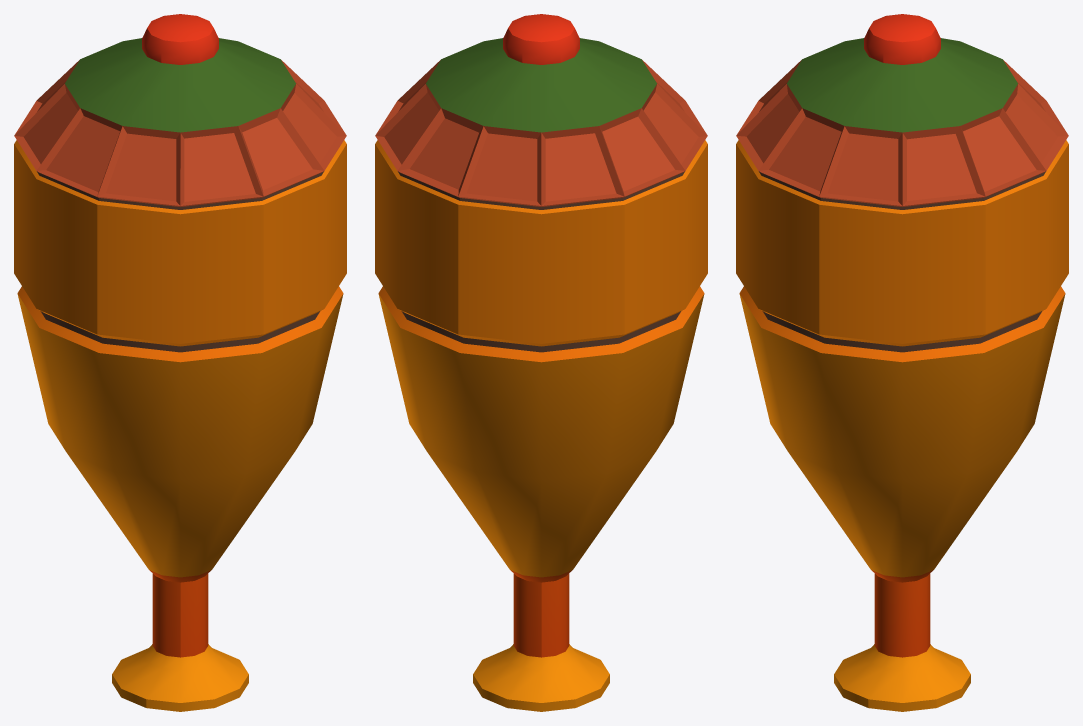
The model's file is bullet of napalm bomb.fbx.
The picture shows the model from 3 angles, left to right: view 1: azimuth 30°, elevation 25°; view 2: azimuth 150°, elevation 25°; view 3: azimuth 270°, elevation 25°; orthographic projection.
Parts seen in each view (by area): view 1: Cylinder.003; view 2: Cylinder.003; view 3: Cylinder.003.
Boxes of the visible parts, <box> form: Cylinder.003: <box>14,14,346,711</box>; Cylinder.003: <box>375,14,707,711</box>; Cylinder.003: <box>736,14,1068,711</box>.
Size of the model in its own units: 61.73 by 135 by 61.73.
Materials: 1 (1 with a texture image).
